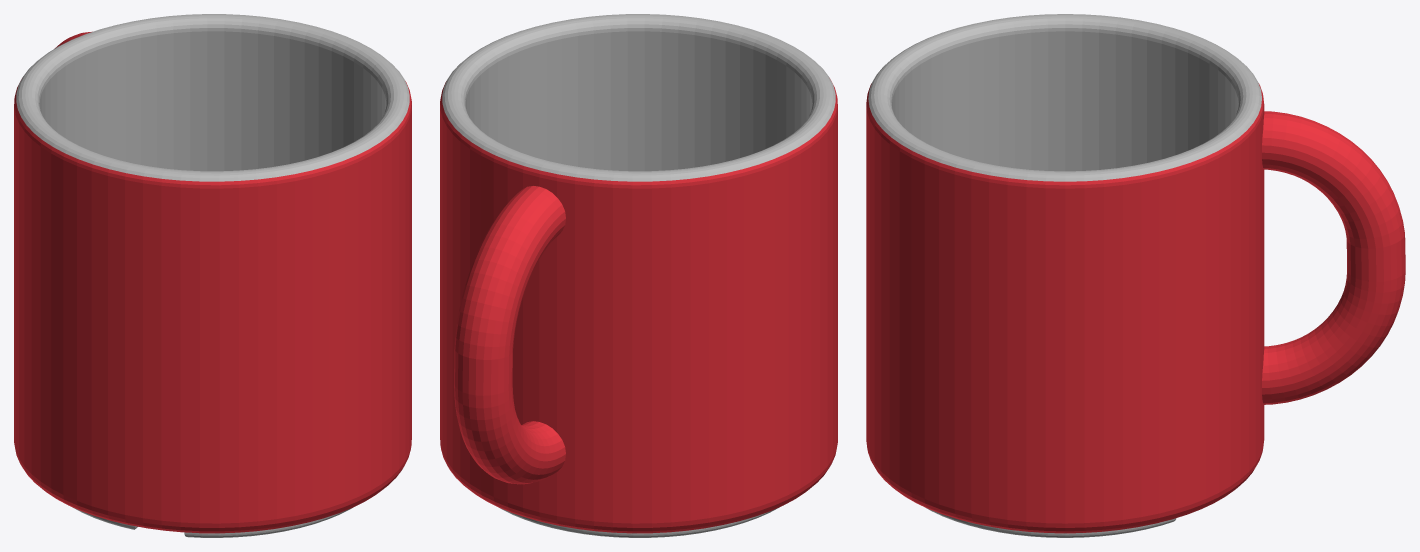
File: Mug.fbx
The picture shows the model from 3 angles, left to right: view 1: azimuth 30°, elevation 25°; view 2: azimuth 150°, elevation 25°; view 3: azimuth 270°, elevation 25°; orthographic projection.
Visible parts, largest first — view 1: Mug; view 2: Mug; view 3: Mug.
Part boxes in pixels (box(x1,y1,x2,y2)): Mug: box(14, 14, 411, 537); Mug: box(440, 14, 837, 537); Mug: box(866, 14, 1405, 537).
Bounding box in the file's own units: 339 × 349 × 460.
